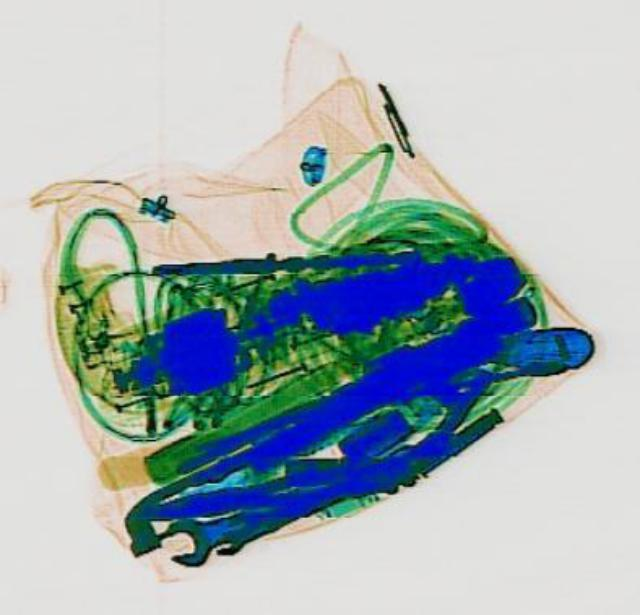Wrench: (150, 476, 324, 571)
